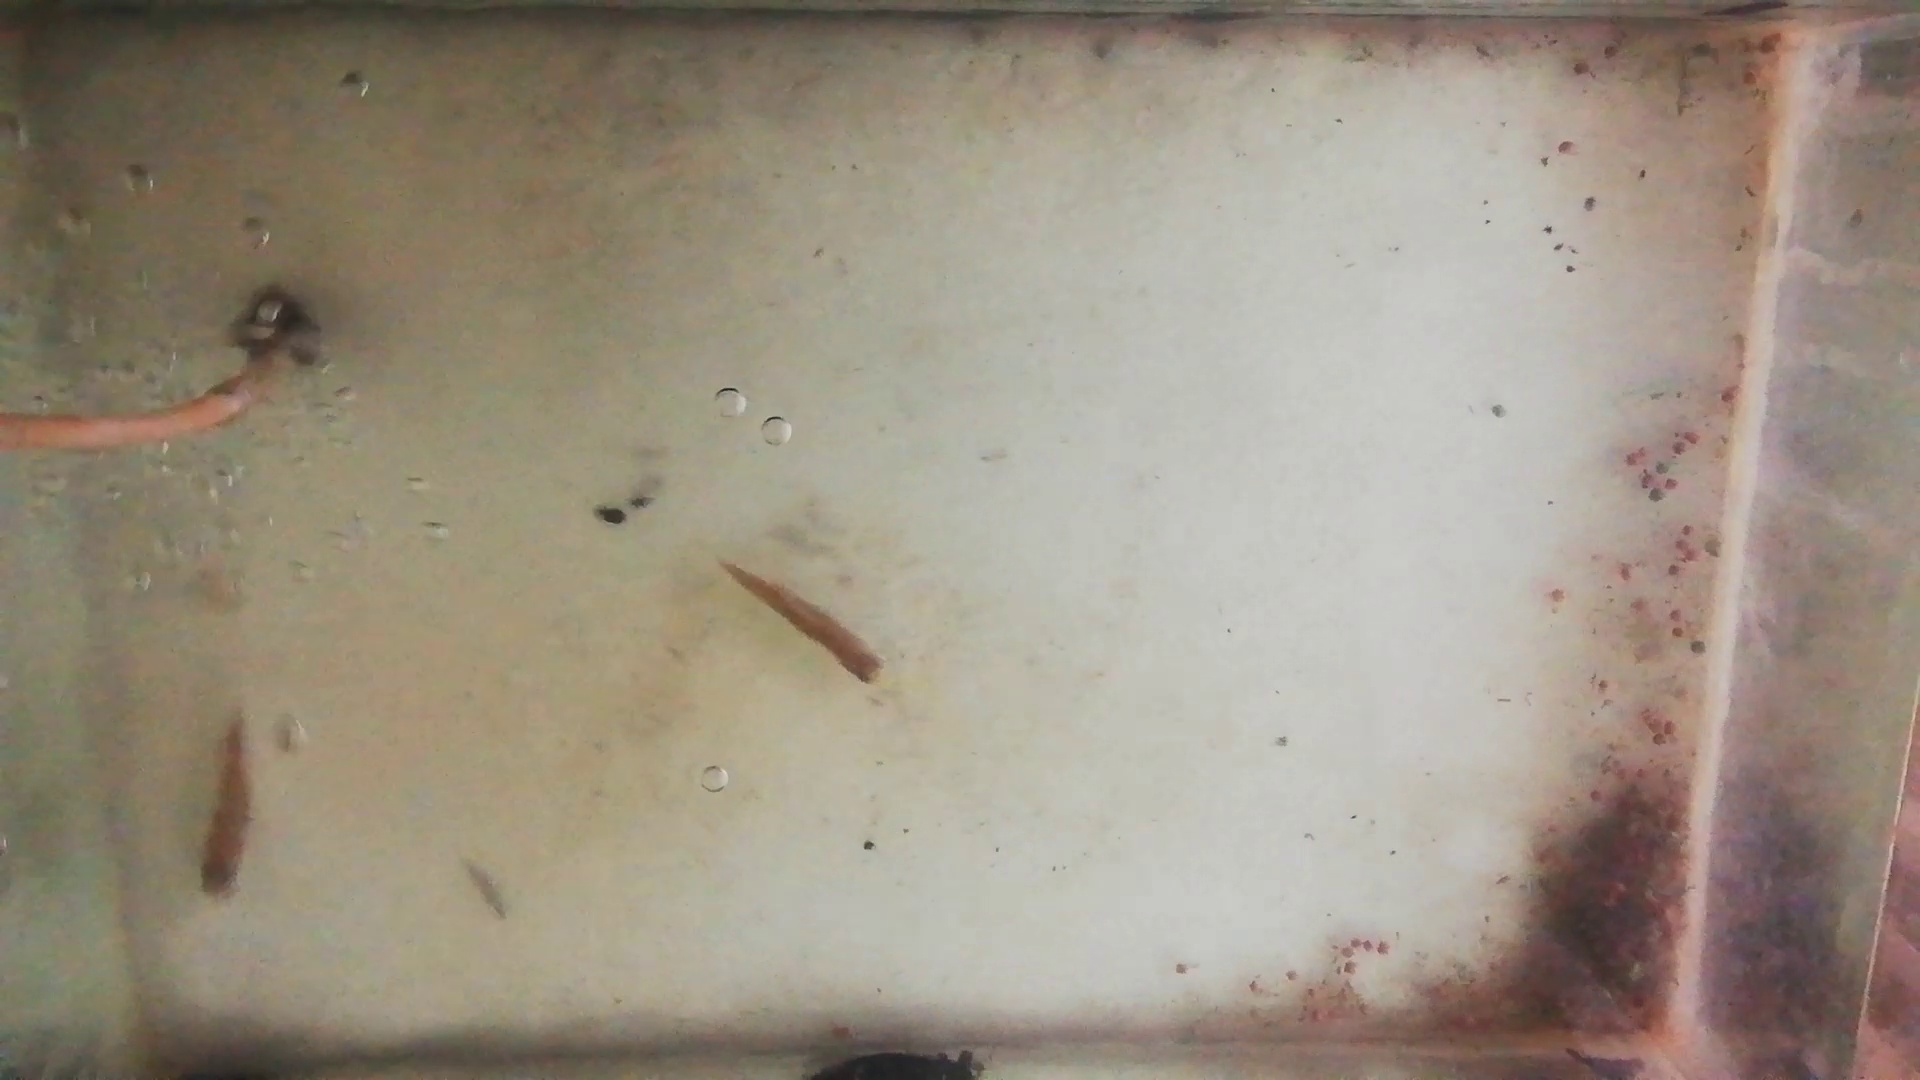fish: (721, 562, 889, 686), (196, 707, 256, 903)
